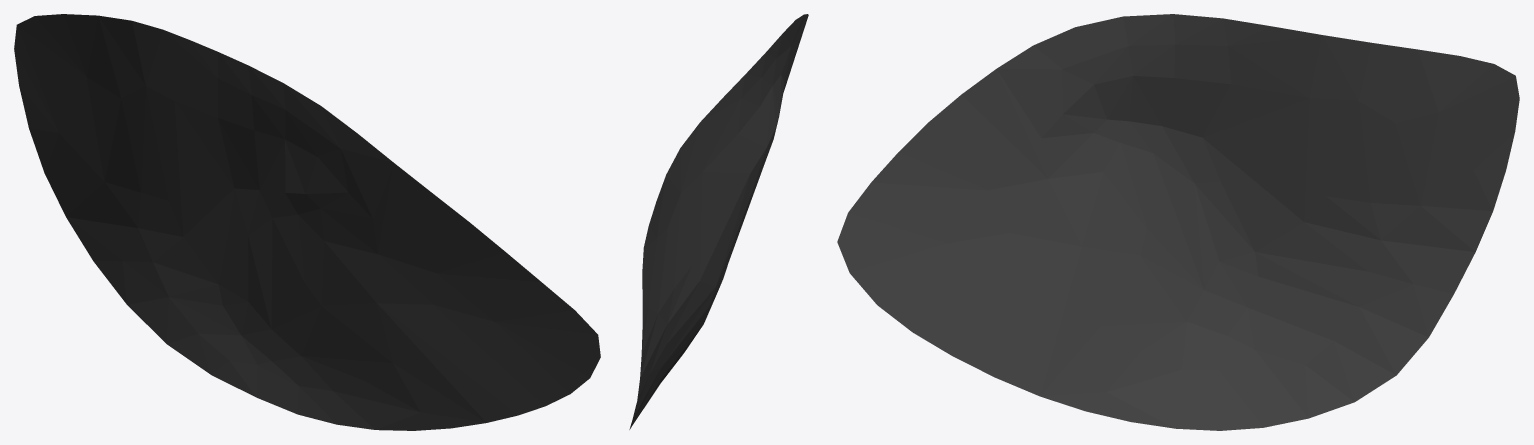
Rendered from Radius_ulna_notch.glb.
3 renders of one model, left to right at view 1: azimuth 30°, elevation 25°; view 2: azimuth 150°, elevation 25°; view 3: azimuth 270°, elevation 25°, orthographic. The views are drawn at different scales.
Parts seen in each view (by area): view 1: Radius_ulna_notch; view 2: Radius_ulna_notch; view 3: Radius_ulna_notch.
Part boxes in pixels (x1,y1,x2,y2): Radius_ulna_notch: [14, 14, 600, 430]; Radius_ulna_notch: [629, 14, 808, 429]; Radius_ulna_notch: [837, 14, 1519, 430].
Bounding box in the file's own units: 0.0397 × 0.071 × 0.1185.
Materials: 1 (1 with a texture image).
